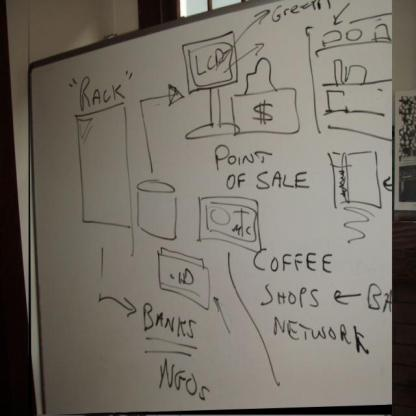Handwritten text: (265, 313, 374, 364), (145, 353, 222, 404), (135, 296, 203, 346), (245, 245, 342, 277), (216, 169, 319, 194), (70, 69, 126, 110), (202, 140, 272, 171), (244, 282, 323, 309)
